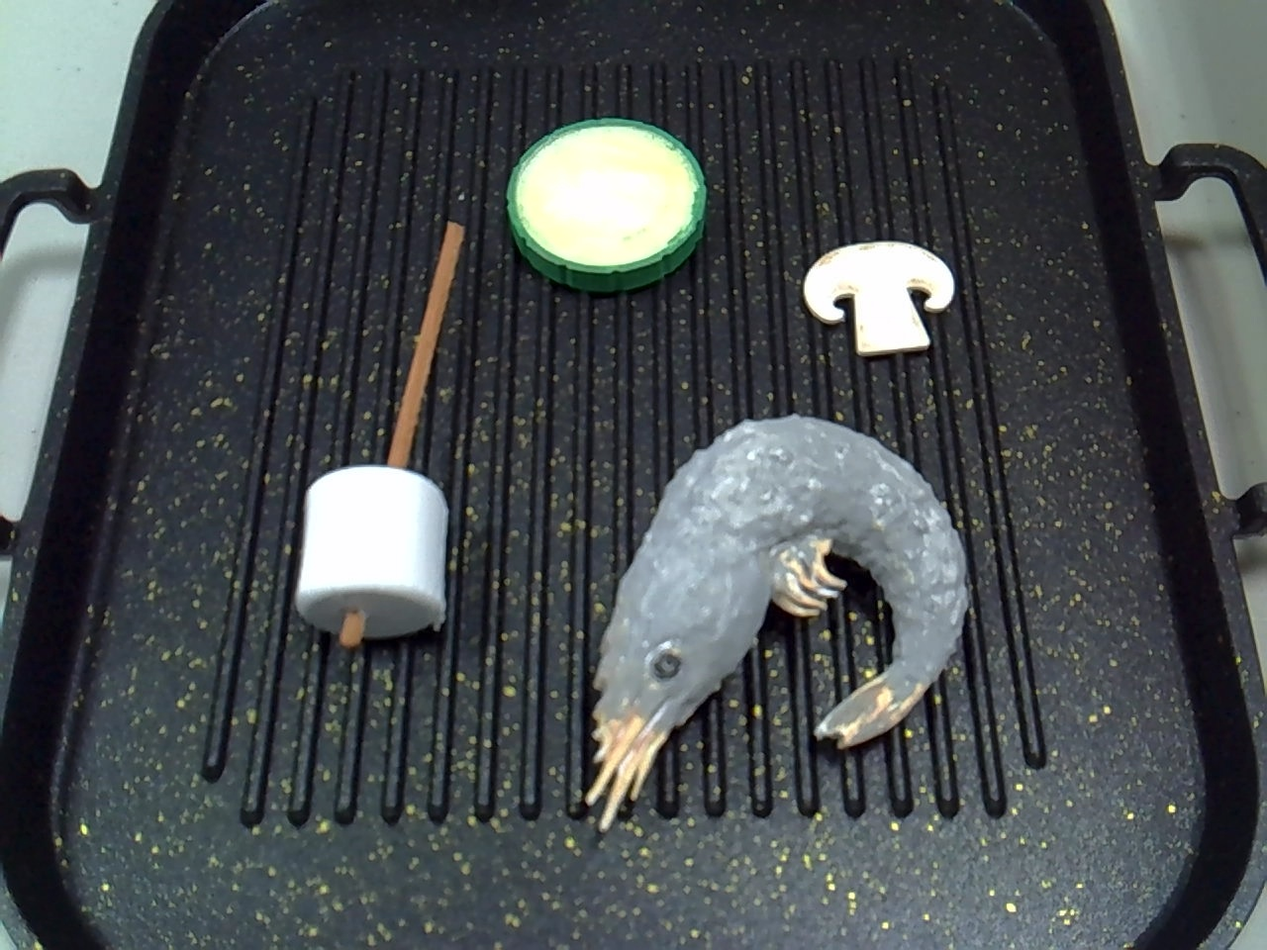marshmallow_raw: (298, 206, 476, 677)
mushroom_raw: (799, 213, 982, 394)
shrimp_raw: (558, 394, 972, 854)
zucchini_raw: (492, 117, 726, 301)
